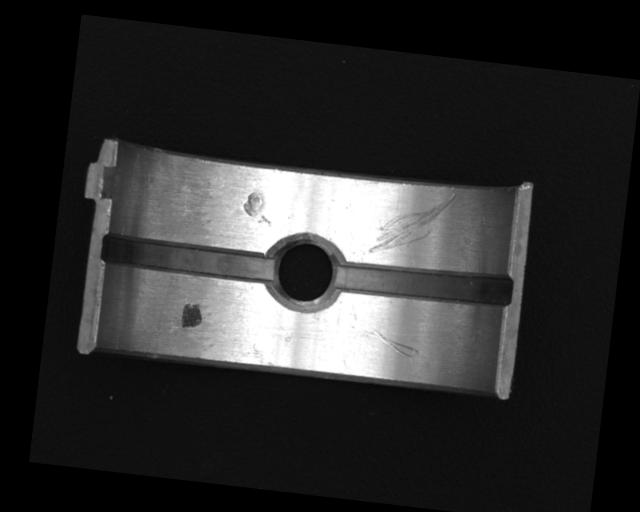blot: (180, 301, 204, 331)
bruise: (241, 190, 274, 227)
gap: (332, 254, 516, 313), (100, 234, 276, 285)
hole: (260, 228, 345, 314)
nick: (367, 185, 457, 263), (362, 326, 420, 360)
